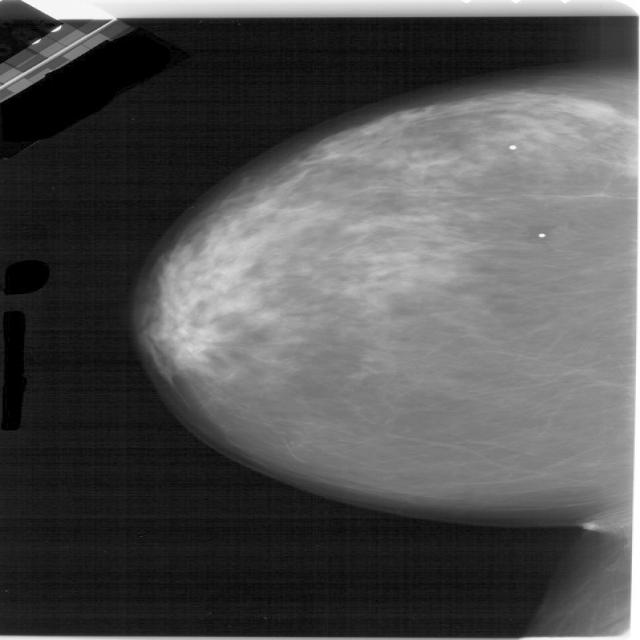tumour: (571, 96, 621, 122)
